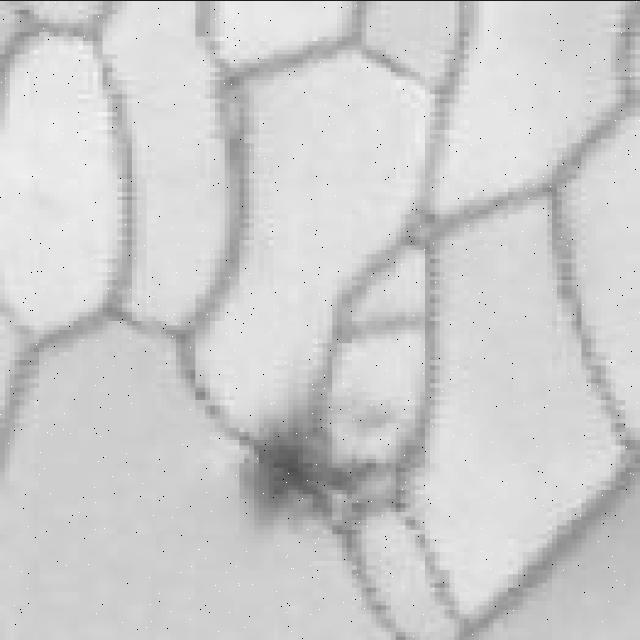good_void: (235, 427, 370, 536)
